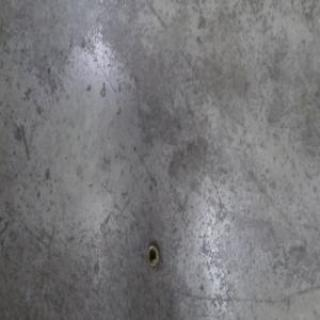Nuttrack_idkeyframe: (144, 240, 160, 268)
